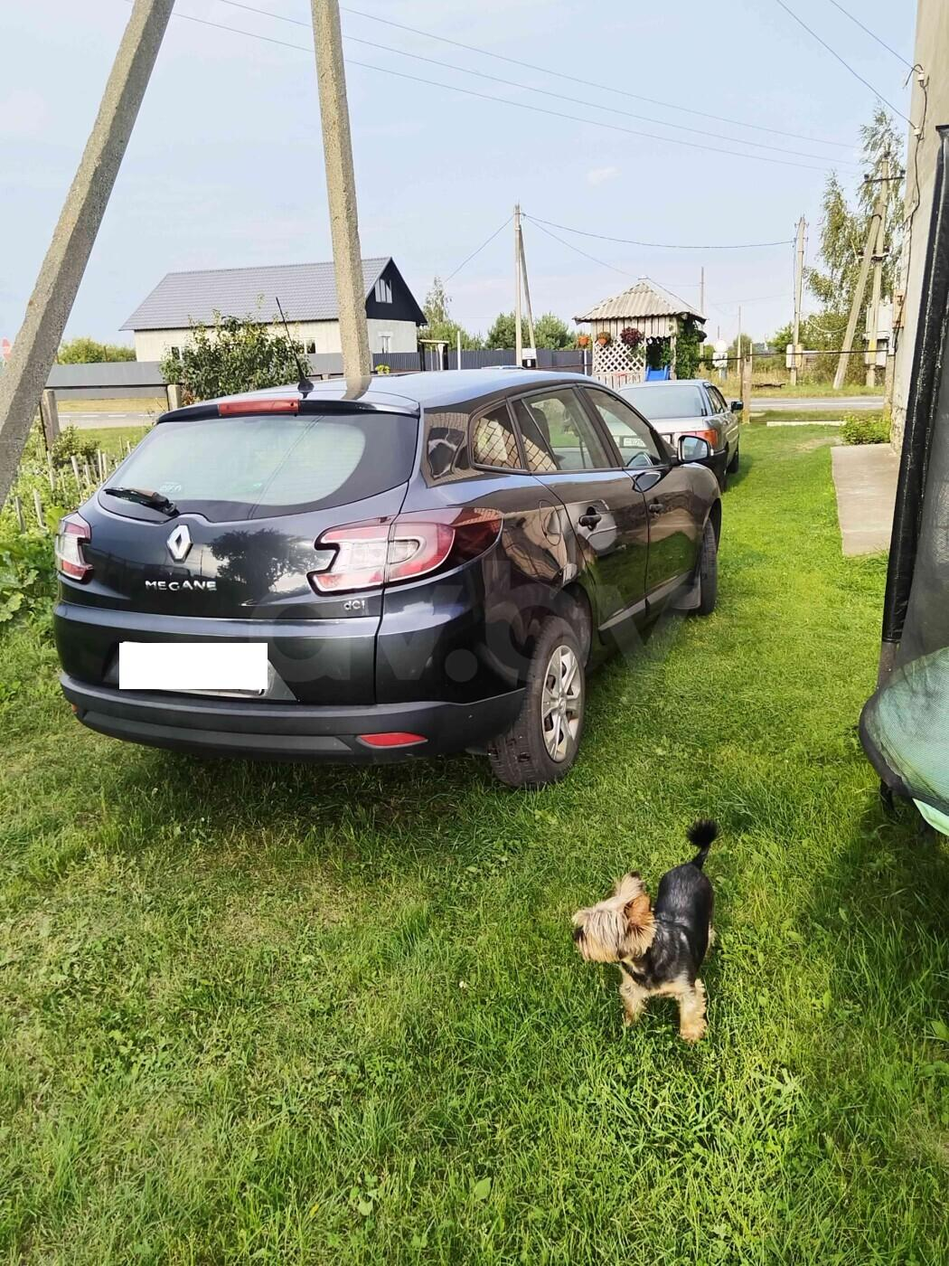Megane_2008-2014: (51, 367, 734, 799)
